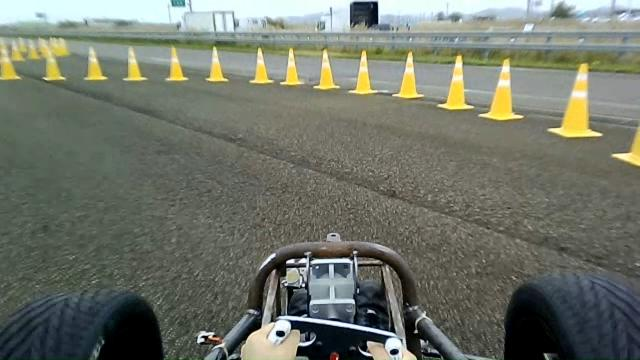blue cone: (350, 1, 378, 28), (170, 0, 185, 6)
yellow cone: (547, 62, 603, 138), (478, 56, 524, 120), (436, 54, 474, 110), (392, 51, 424, 99), (348, 50, 378, 94), (313, 48, 340, 90), (248, 46, 274, 84), (280, 47, 304, 86), (205, 46, 229, 82)
